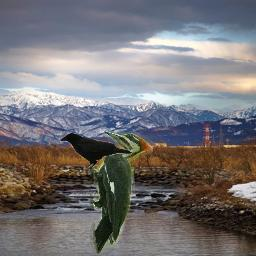Crow: (57, 131, 132, 168)
Woodpecker: (90, 131, 153, 254)
